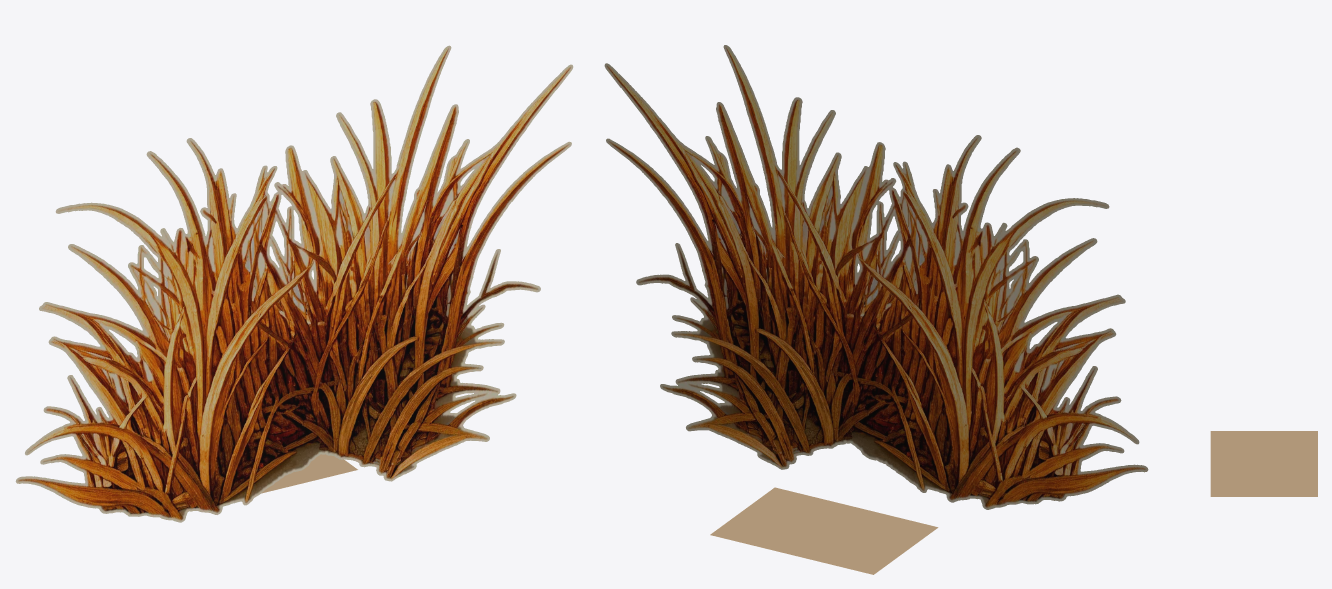
Rendered from toad-prop-dry-grass.glb.
3 renders of one model, left to right at view 1: azimuth 30°, elevation 25°; view 2: azimuth 150°, elevation 25°; view 3: azimuth 270°, elevation 25°, orthographic. The views are drawn at different scales.
Parts seen in each view (by area): view 1: dry-grass; view 2: dry-grass; view 3: dry-grass.
Part boxes in pixels (left/top/right/bottom): dry-grass: left=15, top=45, right=573, bottom=522; dry-grass: left=604, top=45, right=1148, bottom=574; dry-grass: left=1210, top=431, right=1317, bottom=496.
Size of the model in its own units: 0.16 by 0.1158 by 0.043.
Materials: 2 (1 with a texture image).
